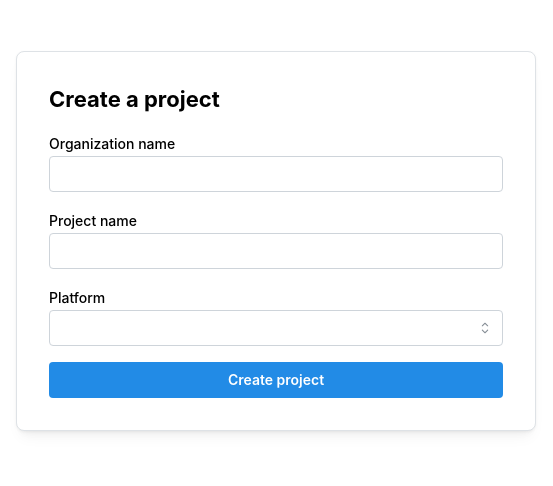
Test: OnboardingPage › surfaces api errors without opening the modal
The width and height of the screenshot is (553, 486).
Type "Acme" into the field labelled "Organization name" at point(276, 174), box [49,156,503,192]
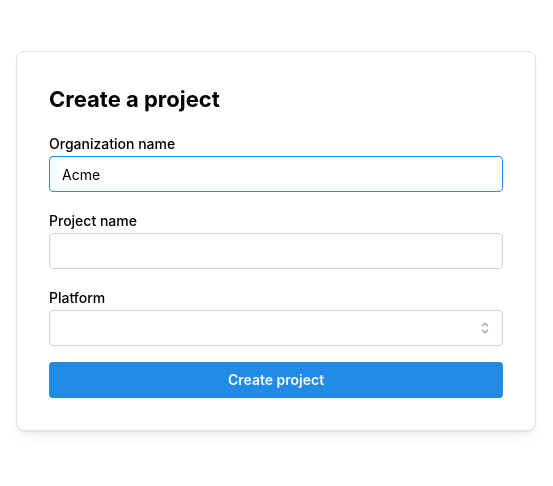
Type "Web" into the field labelled "Project name" at point(276, 251), box [49,233,503,269]
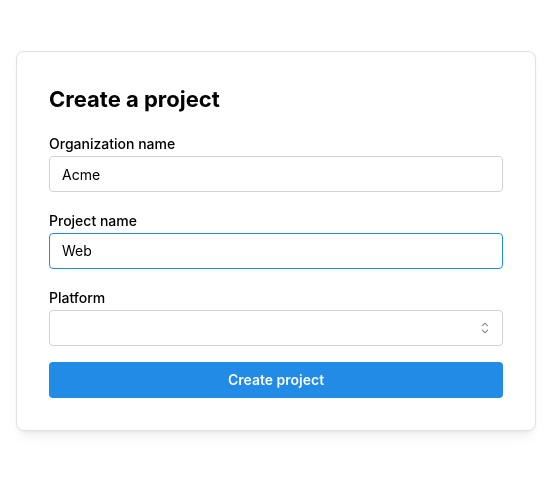
Click the button "Create project" at point(276, 380), box [49,362,503,398]
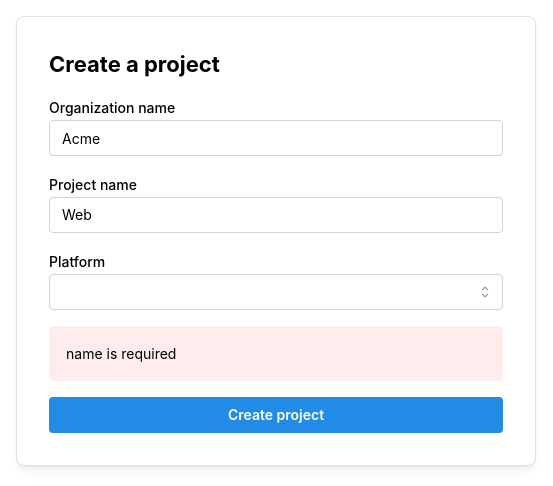
Expected: the text "name is required" is shown, [66,345,176,362]
